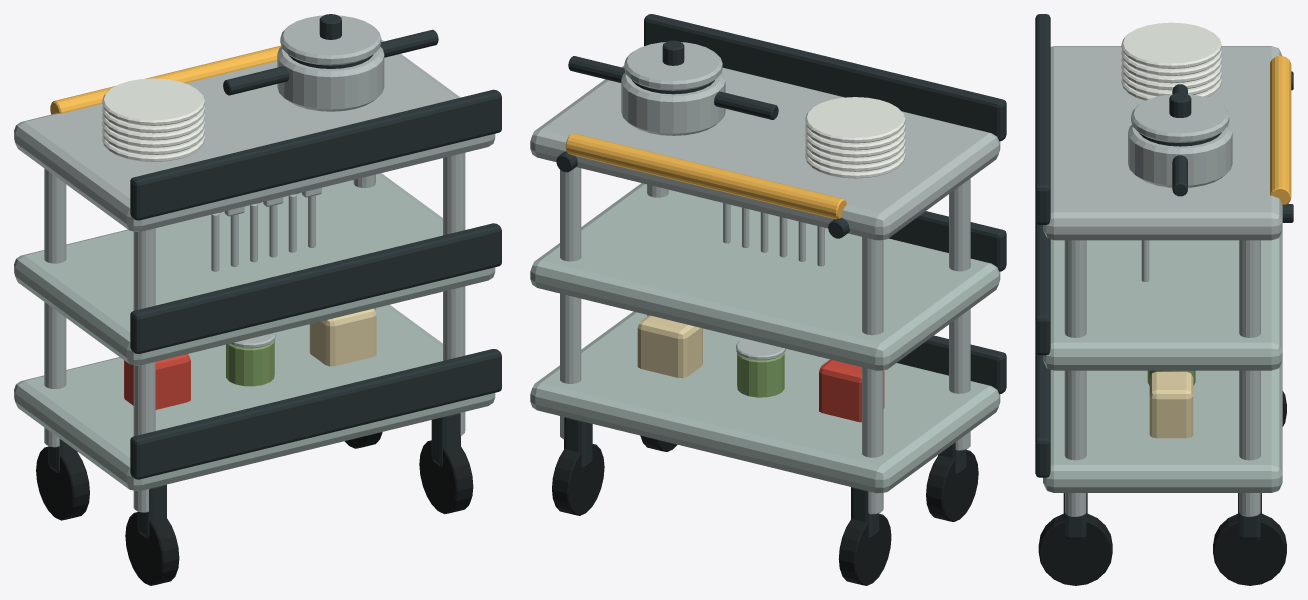
Rendered from Chariot de service de cuisine.glb.
3 renders of one model, left to right at view 1: azimuth 30°, elevation 25°; view 2: azimuth 150°, elevation 25°; view 3: azimuth 270°, elevation 25°, orthographic. The views are drawn at different scales.
Visible parts, largest first — view 1: TROLLEY_Tray_2, TROLLEY_Tray_1, TROLLEY_Tray_3, TROLLEY_Tray_Lip_Front_1, TROLLEY_Tray_Lip_Front_2, TROLLEY_Tray_Lip_Front_3, TROLLEY_Sauce_Pot_Pot_Body, TROLLEY_Post_-0.4_0.2, TROLLEY_Plates_Plate_6, TROLLEY_Post_-0.4_-0.2, TROLLEY_Sauce_Pot_Lid, TROLLEY_Post_0.4_-0.2 (+16 smaller); view 2: TROLLEY_Tray_2, TROLLEY_Tray_1, TROLLEY_Tray_3, TROLLEY_Tray_Lip_Front_3, TROLLEY_Push_Handle, TROLLEY_Sauce_Pot_Pot_Body, TROLLEY_Post_-0.4_0.2, TROLLEY_Post_0.4_0.2, TROLLEY_Post_-0.4_-0.2, TROLLEY_Plates_Plate_6, TROLLEY_Sauce_Pot_Lid, TROLLEY_Containers_Ration_Box_0_2 (+17 smaller); view 3: TROLLEY_Tray_3, TROLLEY_Tray_2, TROLLEY_Tray_1, TROLLEY_Post_0.4_-0.2, TROLLEY_Post_0.4_0.2, TROLLEY_Sauce_Pot_Pot_Body, TROLLEY_Wheel_1_1, TROLLEY_Wheel_1_-1, TROLLEY_Plates_Plate_6, TROLLEY_Sauce_Pot_Lid, TROLLEY_Tray_Lip_Front_3, TROLLEY_Push_Handle (+13 smaller).
Boxes of the visible parts, bbox=[...] form: TROLLEY_Tray_2: bbox=[14, 173, 495, 365]; TROLLEY_Tray_1: bbox=[14, 304, 495, 490]; TROLLEY_Tray_3: bbox=[14, 39, 495, 231]; TROLLEY_Tray_Lip_Front_1: bbox=[130, 349, 501, 479]; TROLLEY_Tray_Lip_Front_2: bbox=[130, 223, 501, 353]; TROLLEY_Tray_Lip_Front_3: bbox=[130, 89, 501, 220]; TROLLEY_Sauce_Pot_Pot_Body: bbox=[277, 46, 384, 111]; TROLLEY_Post_-0.4_0.2: bbox=[44, 168, 66, 447]; TROLLEY_Plates_Plate_6: bbox=[102, 78, 204, 125]; TROLLEY_Post_-0.4_-0.2: bbox=[133, 228, 155, 512]; TROLLEY_Sauce_Pot_Lid: bbox=[280, 15, 381, 65]; TROLLEY_Post_0.4_-0.2: bbox=[443, 153, 465, 435]; TROLLEY_Tray_2: bbox=[530, 183, 1000, 370]; TROLLEY_Tray_1: bbox=[530, 311, 1000, 493]; TROLLEY_Tray_3: bbox=[530, 65, 1000, 240]; TROLLEY_Tray_Lip_Front_3: bbox=[644, 14, 1006, 141]; TROLLEY_Push_Handle: bbox=[565, 133, 846, 219]; TROLLEY_Sauce_Pot_Pot_Body: bbox=[621, 72, 725, 135]; TROLLEY_Post_-0.4_0.2: bbox=[862, 237, 883, 514]; TROLLEY_Post_0.4_0.2: bbox=[560, 167, 581, 439]; TROLLEY_Post_-0.4_-0.2: bbox=[949, 178, 970, 450]; TROLLEY_Plates_Plate_6: bbox=[805, 97, 905, 143]; TROLLEY_Sauce_Pot_Lid: bbox=[624, 42, 722, 90]; TROLLEY_Containers_Ration_Box_0_2: bbox=[637, 315, 702, 378]; TROLLEY_Tray_3: bbox=[1043, 46, 1282, 240]; TROLLEY_Tray_2: bbox=[1043, 230, 1282, 370]; TROLLEY_Tray_1: bbox=[1043, 361, 1282, 492]; TROLLEY_Post_0.4_-0.2: bbox=[1064, 240, 1086, 516]; TROLLEY_Post_0.4_0.2: bbox=[1239, 240, 1260, 516]; TROLLEY_Sauce_Pot_Pot_Body: bbox=[1128, 124, 1232, 187]; TROLLEY_Wheel_1_1: bbox=[1213, 513, 1286, 585]; TROLLEY_Wheel_1_-1: bbox=[1038, 514, 1112, 585]; TROLLEY_Plates_Plate_6: bbox=[1121, 22, 1221, 68]; TROLLEY_Sauce_Pot_Lid: bbox=[1131, 94, 1229, 142]; TROLLEY_Tray_Lip_Front_3: bbox=[1035, 14, 1050, 224]; TROLLEY_Push_Handle: bbox=[1270, 56, 1291, 204].
Bounding box in the file's own units: 0.965 × 1.15 × 0.5925.
